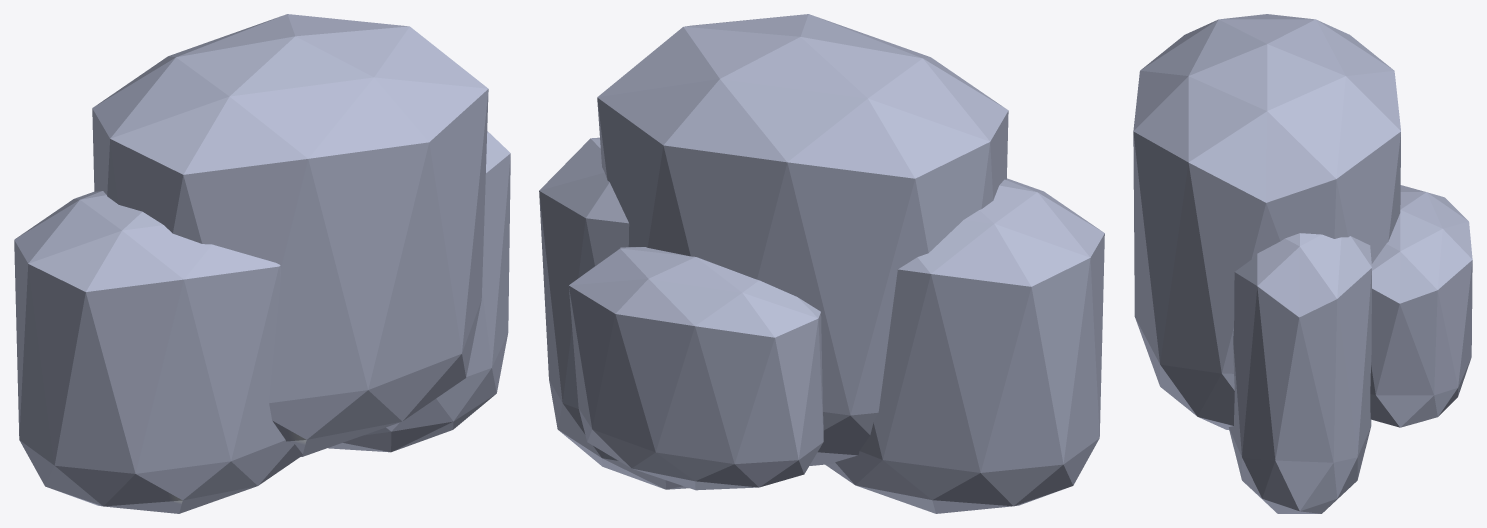
Rendered from Stone_6.fbx.
3 views of the same model, side by side, from view 1: azimuth 30°, elevation 25°; view 2: azimuth 150°, elevation 25°; view 3: azimuth 270°, elevation 25° (orthographic). The views are drawn at different scales.
Visible parts, largest first — view 1: Stone_6; view 2: Stone_6; view 3: Stone_6.
Boxes of the visible parts, bbox=[...] form: Stone_6: bbox=[14, 14, 510, 513]; Stone_6: bbox=[539, 14, 1104, 513]; Stone_6: bbox=[1133, 14, 1472, 513].
Bounding box in the file's own units: 212 × 182 × 136.
